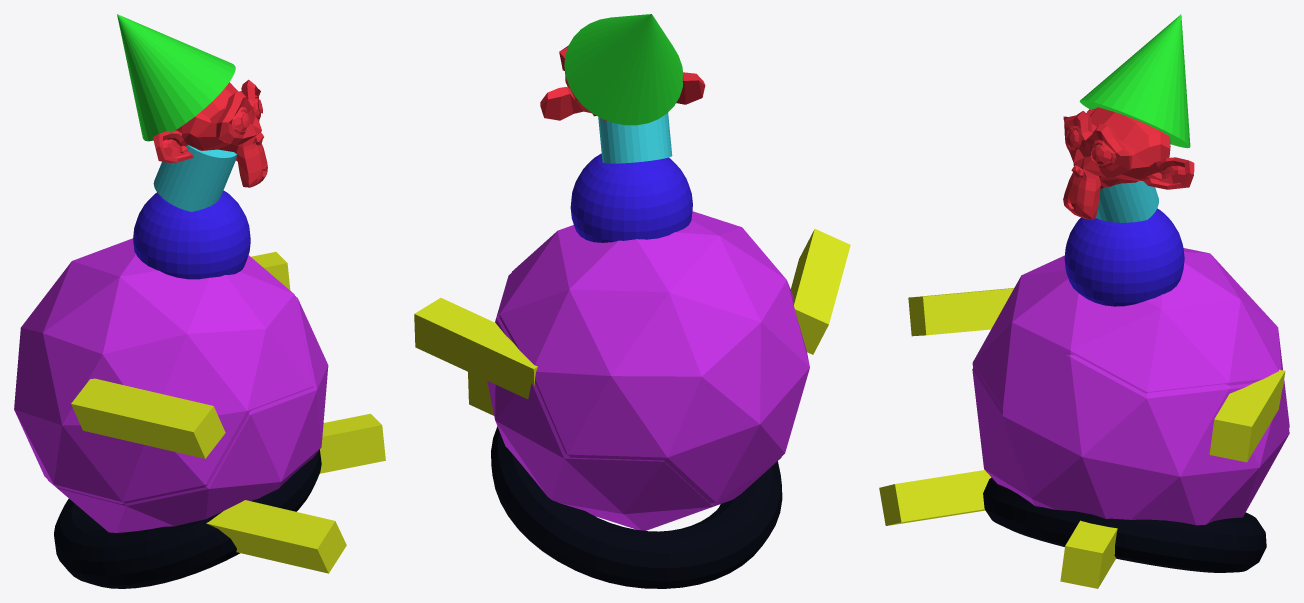
File: Character.fbx
The picture shows the model from 3 angles, left to right: view 1: azimuth 30°, elevation 25°; view 2: azimuth 150°, elevation 25°; view 3: azimuth 270°, elevation 25°; orthographic projection. The views are drawn at different scales.
Visible parts, largest first — view 1: Icosphere, Icosphere.001, Torus, Cone, Sphere, Cube.001, Cube.004, Suzanne, Cylinder, Cube.003, Cube.002; view 2: Icosphere, Torus, Icosphere.001, Cone, Sphere, Cube.002, Cube.001, Cylinder, Suzanne, Cube.003; view 3: Icosphere.001, Icosphere, Torus, Sphere, Suzanne, Cone, Cube.004, Cube.002, Cube.001, Cube.003, Cylinder.
Boxes of the visible parts, bbox=[...] form: Icosphere: bbox=[14, 238, 313, 504]; Icosphere.001: bbox=[47, 296, 328, 532]; Torus: bbox=[54, 449, 321, 588]; Cone: bbox=[117, 14, 235, 141]; Sphere: bbox=[133, 190, 250, 279]; Cube.001: bbox=[71, 378, 225, 458]; Cube.004: bbox=[206, 500, 346, 573]; Suzanne: bbox=[153, 79, 267, 187]; Cylinder: bbox=[153, 144, 236, 211]; Cube.003: bbox=[320, 413, 385, 473]; Cube.002: bbox=[251, 252, 290, 290]; Icosphere: bbox=[499, 211, 809, 503]; Torus: bbox=[491, 426, 782, 588]; Icosphere.001: bbox=[487, 273, 781, 530]; Cone: bbox=[564, 14, 683, 125]; Sphere: bbox=[570, 153, 692, 242]; Cube.002: bbox=[414, 298, 537, 399]; Cube.001: bbox=[790, 229, 850, 354]; Cylinder: bbox=[598, 112, 672, 163]; Suzanne: bbox=[540, 45, 705, 121]; Cube.003: bbox=[468, 372, 493, 415]; Icosphere.001: bbox=[972, 355, 1289, 525]; Icosphere: bbox=[972, 248, 1289, 427]; Torus: bbox=[983, 477, 1266, 572]; Sphere: bbox=[1064, 208, 1184, 306]; Suzanne: bbox=[1063, 107, 1194, 219]; Cone: bbox=[1079, 14, 1190, 148]; Cube.004: bbox=[879, 470, 991, 525]; Cube.002: bbox=[1209, 369, 1285, 462]; Cube.001: bbox=[908, 288, 1013, 336]; Cube.003: bbox=[1060, 520, 1117, 588]; Cylinder: bbox=[1096, 181, 1158, 222].
Bounding box in the file's own units: 636 × 1010 × 683.
